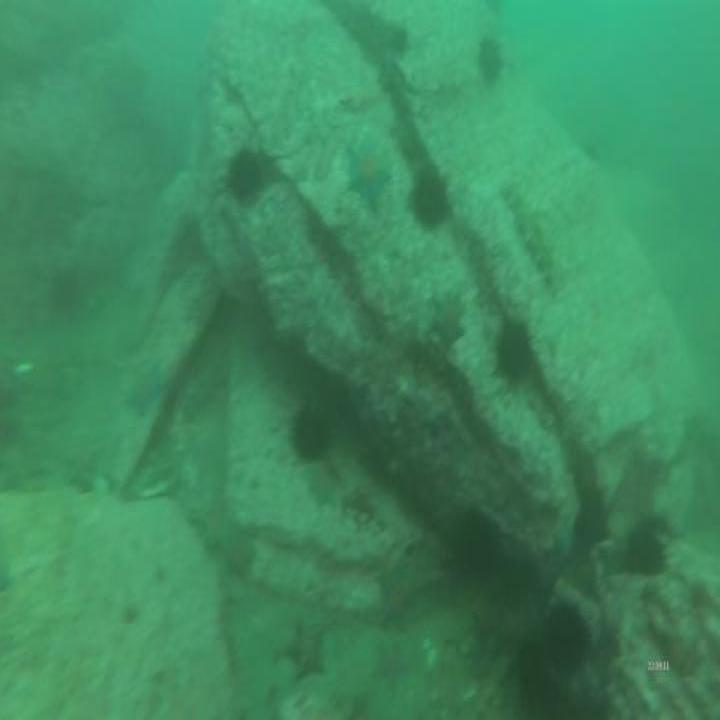echinus: (548, 604, 584, 674), (460, 512, 497, 574), (411, 166, 444, 230), (229, 153, 265, 204), (498, 322, 530, 377), (293, 406, 328, 454), (578, 489, 607, 544), (629, 530, 662, 576), (479, 37, 502, 80)
holothurian: (500, 186, 560, 292)
starfish: (351, 146, 390, 206), (380, 565, 414, 631), (285, 624, 326, 677), (430, 290, 462, 345), (127, 371, 165, 409), (375, 644, 407, 684)
